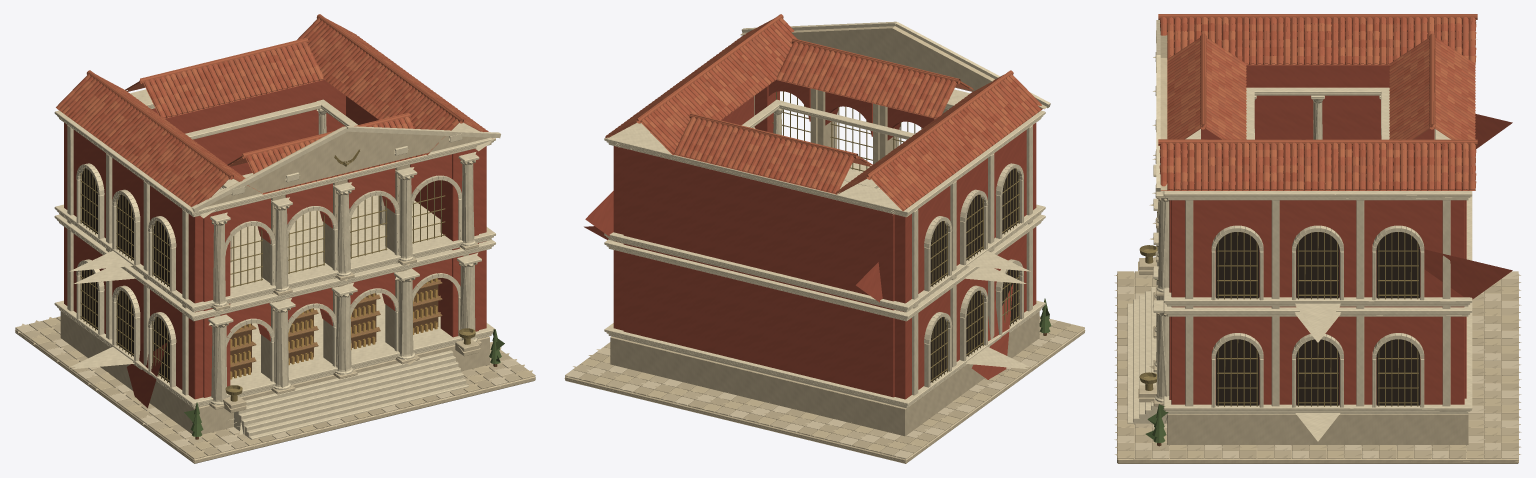
File: bibliothek.glb
The picture shows the model from 3 angles, left to right: view 1: azimuth 30°, elevation 25°; view 2: azimuth 150°, elevation 25°; view 3: azimuth 270°, elevation 25°; orthographic projection. The views are drawn at different scales.
Visible parts, largest first — view 1: Limestone_trim.001, Pompeian_red.001, Travertine.001, Tile_0.001, Limestone_trim.002, Bronze.001, Tile_1.001, Tile_2.001, Interior_shadow.001, Tile_5.001, Tile_4.001, Tile_3.001 (+12 smaller); view 2: Pompeian_red.001, Limestone_trim.001, Travertine.001, Tile_0.001, Tile_1.001, Tile_2.001, Tile_4.001, Tile_3.001, Tile_5.001, Bronze.001, Interior_shadow.001, Paving_2.001 (+10 smaller); view 3: Pompeian_red.001, Limestone_trim.001, Tile_0.001, Interior_shadow.001, Travertine.001, Tile_1.001, Tile_2.001, Tile_3.001, Bronze.001, Tile_4.001, Tile_5.001, Paving_0.001 (+18 smaller).
Boxes of the visible parts, left/top/right/bottom form: Limestone_trim.001: left=54, top=89, right=500, bottom=439; Pompeian_red.001: left=64, top=80, right=486, bottom=399; Travertine.001: left=15, top=126, right=535, bottom=463; Tile_0.001: left=61, top=19, right=482, bottom=201; Limestone_trim.002: left=57, top=106, right=495, bottom=436; Bronze.001: left=80, top=149, right=475, bottom=401; Tile_1.001: left=56, top=14, right=488, bottom=204; Tile_2.001: left=57, top=23, right=492, bottom=204; Interior_shadow.001: left=82, top=171, right=169, bottom=382; Tile_5.001: left=75, top=18, right=476, bottom=206; Tile_4.001: left=68, top=22, right=488, bottom=206; Tile_3.001: left=62, top=21, right=479, bottom=197; Pompeian_red.001: left=613, top=80, right=1036, bottom=399; Limestone_trim.001: left=604, top=21, right=1050, bottom=408; Travertine.001: left=565, top=26, right=1084, bottom=463; Tile_0.001: left=615, top=18, right=1035, bottom=204; Tile_1.001: left=605, top=14, right=1042, bottom=210; Tile_2.001: left=608, top=35, right=1042, bottom=210; Tile_4.001: left=611, top=20, right=1041, bottom=201; Tile_3.001: left=617, top=18, right=1029, bottom=205; Tile_5.001: left=614, top=20, right=1038, bottom=192; Bronze.001: left=772, top=91, right=1019, bottom=382; Interior_shadow.001: left=930, top=168, right=1018, bottom=382; Paving_2.001: left=565, top=319, right=1069, bottom=459; Pompeian_red.001: left=1169, top=65, right=1466, bottom=404; Limestone_trim.001: left=1127, top=20, right=1472, bottom=424; Tile_0.001: left=1160, top=17, right=1475, bottom=190; Interior_shadow.001: left=1216, top=232, right=1419, bottom=405; Travertine.001: left=1117, top=35, right=1518, bottom=463; Tile_1.001: left=1158, top=14, right=1477, bottom=190; Tile_2.001: left=1160, top=17, right=1475, bottom=190; Tile_3.001: left=1167, top=17, right=1475, bottom=190; Bronze.001: left=1139, top=232, right=1418, bottom=406; Tile_4.001: left=1160, top=17, right=1475, bottom=190; Tile_5.001: left=1160, top=17, right=1475, bottom=190; Paving_0.001: left=1117, top=271, right=1518, bottom=458.
Bounding box in the file's own units: 26.55 × 18.2 × 20.28.
Materials: 19 (6 with a texture image).
